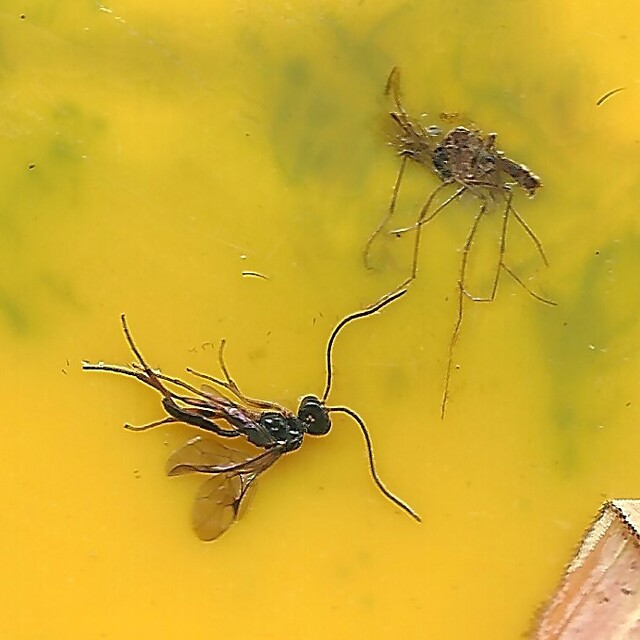Hymenoptera: (85, 292, 427, 546)
Nematocera: (368, 94, 555, 362)
